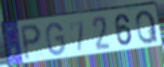2: (92, 15, 112, 52)
6: (114, 13, 134, 48)
7: (69, 20, 85, 53)
G: (45, 21, 67, 57)
P: (19, 22, 43, 63)
Q: (135, 9, 160, 46)
